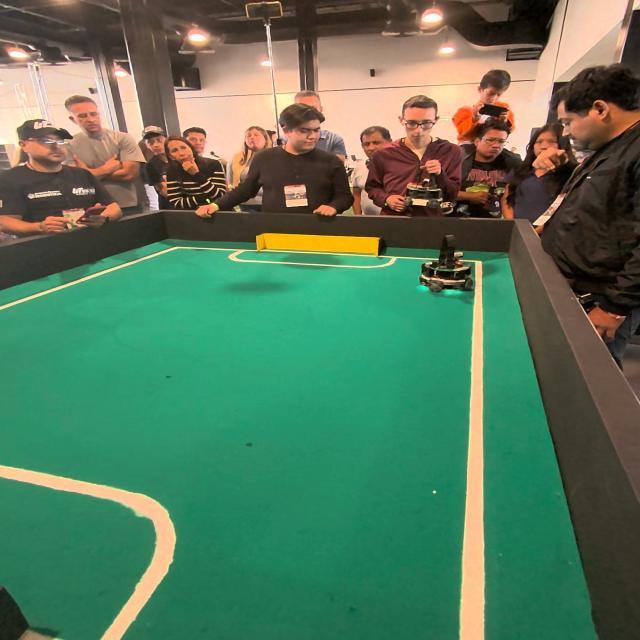Robot: (414, 234, 474, 301)
